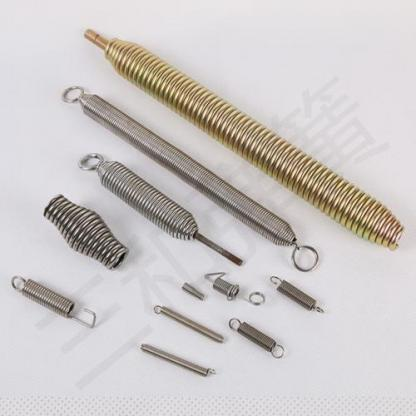FOD: (81, 24, 408, 254), (59, 80, 320, 274), (74, 150, 245, 268), (40, 192, 128, 272), (9, 272, 102, 330), (138, 340, 216, 380), (152, 303, 226, 345), (226, 316, 288, 361), (199, 268, 265, 304), (270, 274, 326, 314), (180, 279, 207, 300)
